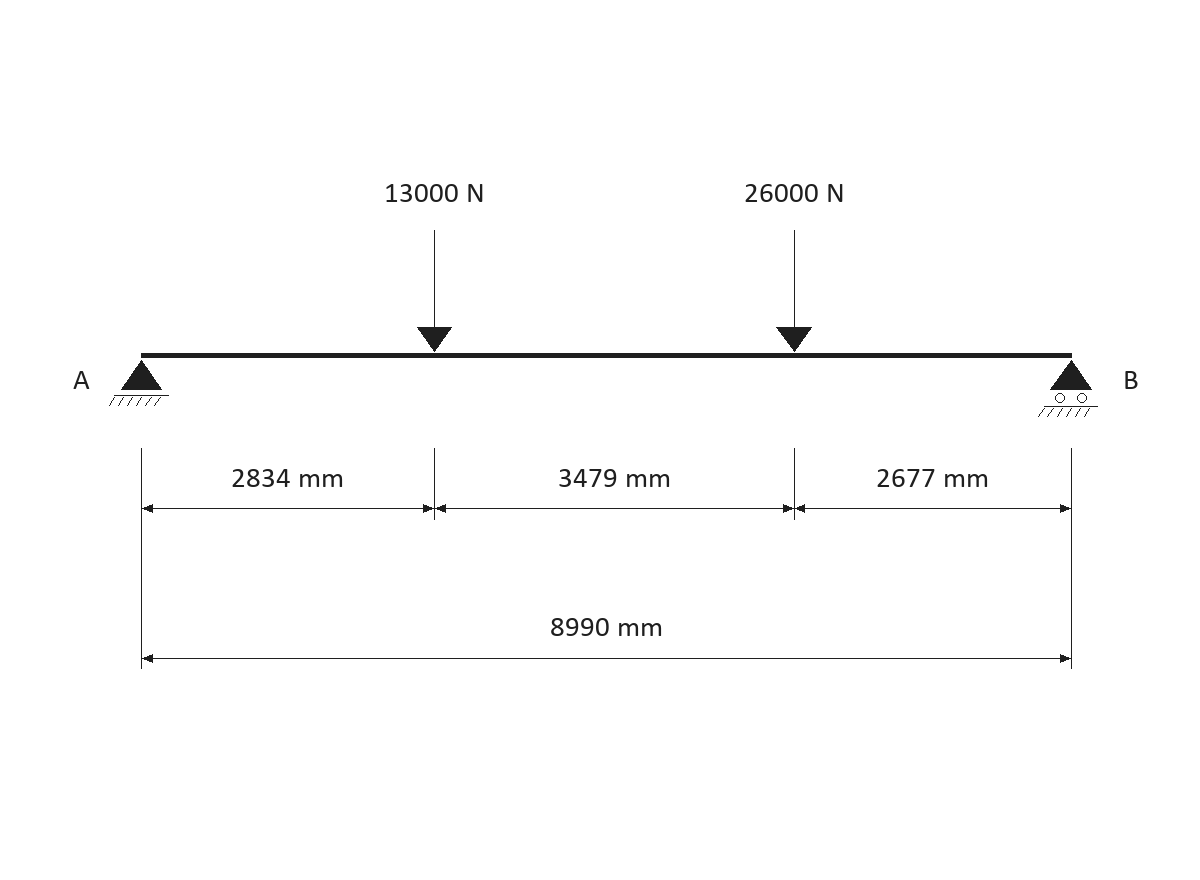pin_support: (109, 360, 169, 406)
point_load: (776, 230, 812, 352), (417, 230, 452, 352)
roller_support: (1038, 360, 1098, 417)
